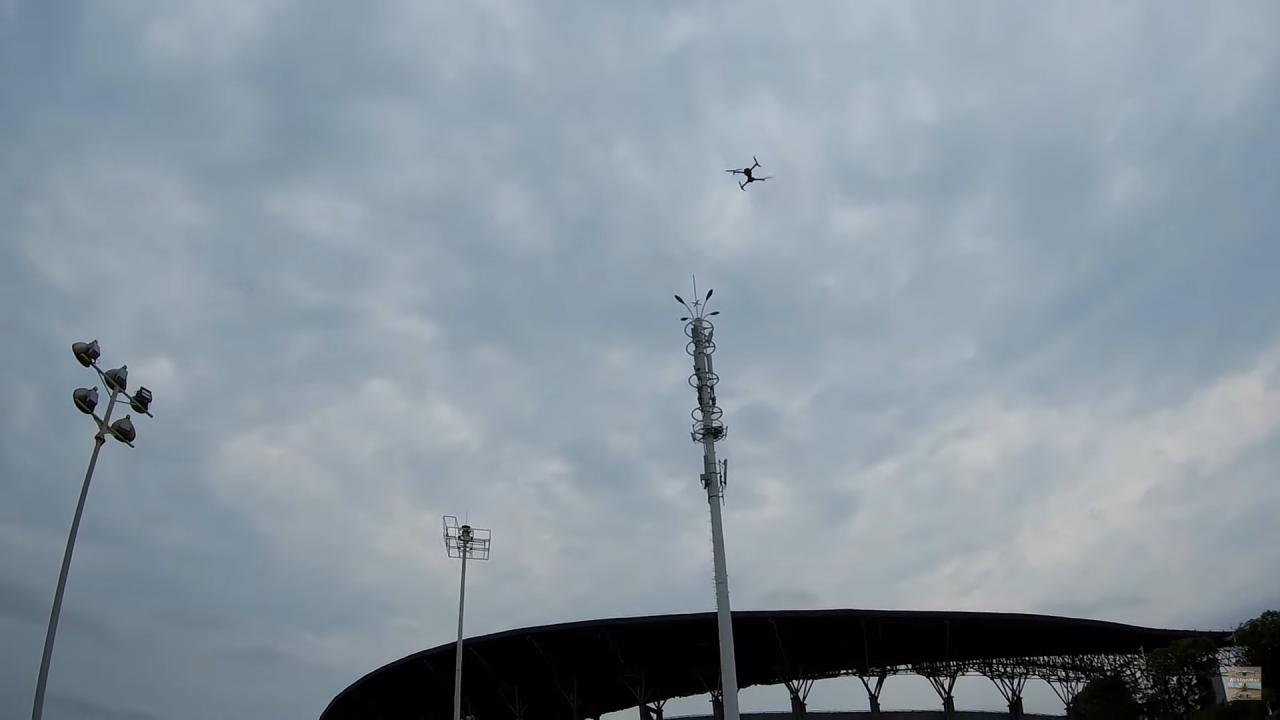Drone: (721, 150, 778, 200)
